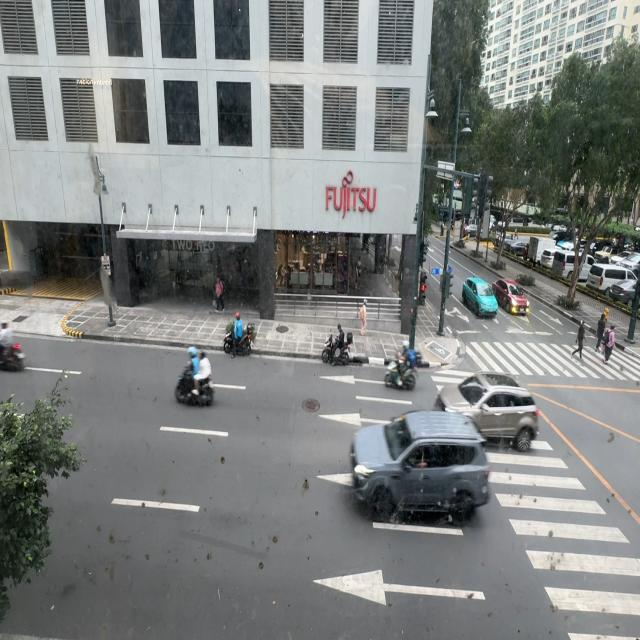crossing: (572, 320, 586, 360), (603, 326, 616, 364), (595, 311, 607, 352)
pedestrain: (214, 276, 225, 312), (359, 298, 367, 336)
